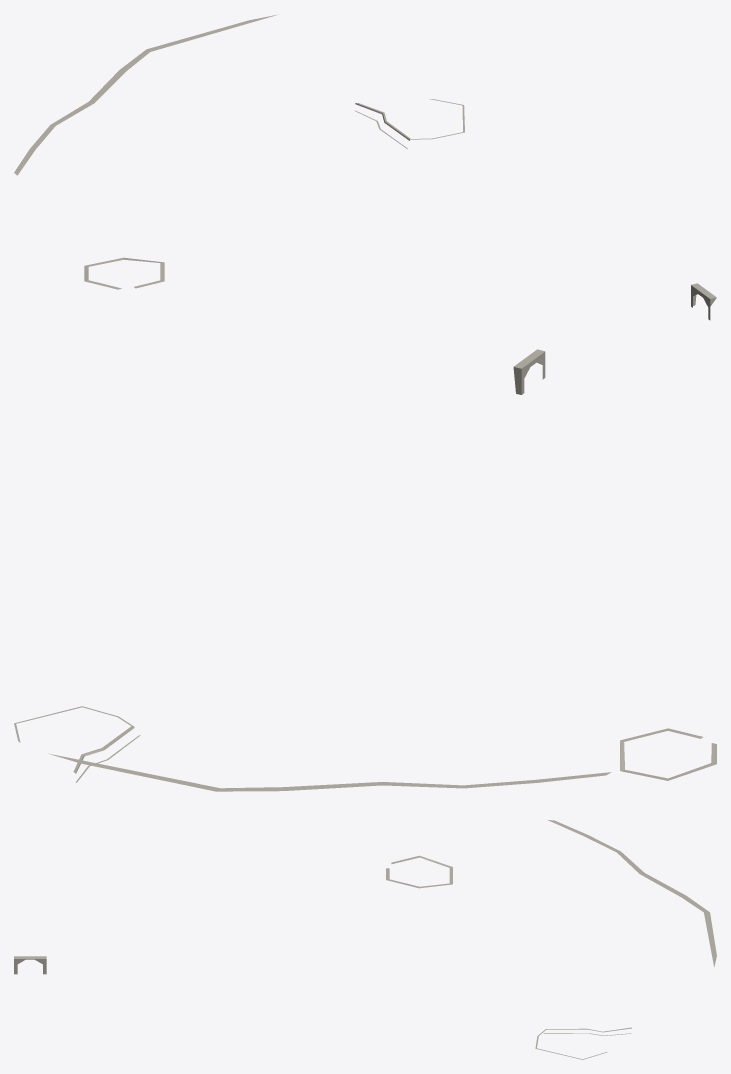
Rendered from kd_connection_town-ground_surface_2_28.glb.
3 renders of one model, top to bottom at view 1: azimuth 30°, elevation 25°; view 2: azimuth 150°, elevation 25°; view 3: azimuth 270°, elevation 25°, orthographic. The views are drawn at different scales.
Visible parts, largest first — view 1: kd_connection_town-ground_surface_2_28; view 2: kd_connection_town-ground_surface_2_28; view 3: kd_connection_town-ground_surface_2_28.
Boxes of the visible parts, <box> form: kd_connection_town-ground_surface_2_28: <box>14,14,716,320</box>; kd_connection_town-ground_surface_2_28: <box>14,349,716,791</box>; kd_connection_town-ground_surface_2_28: <box>14,820,716,1059</box>.
Size of the model in its own units: 127 by 21.8 by 194.
Materials: 1 (1 with a texture image).
